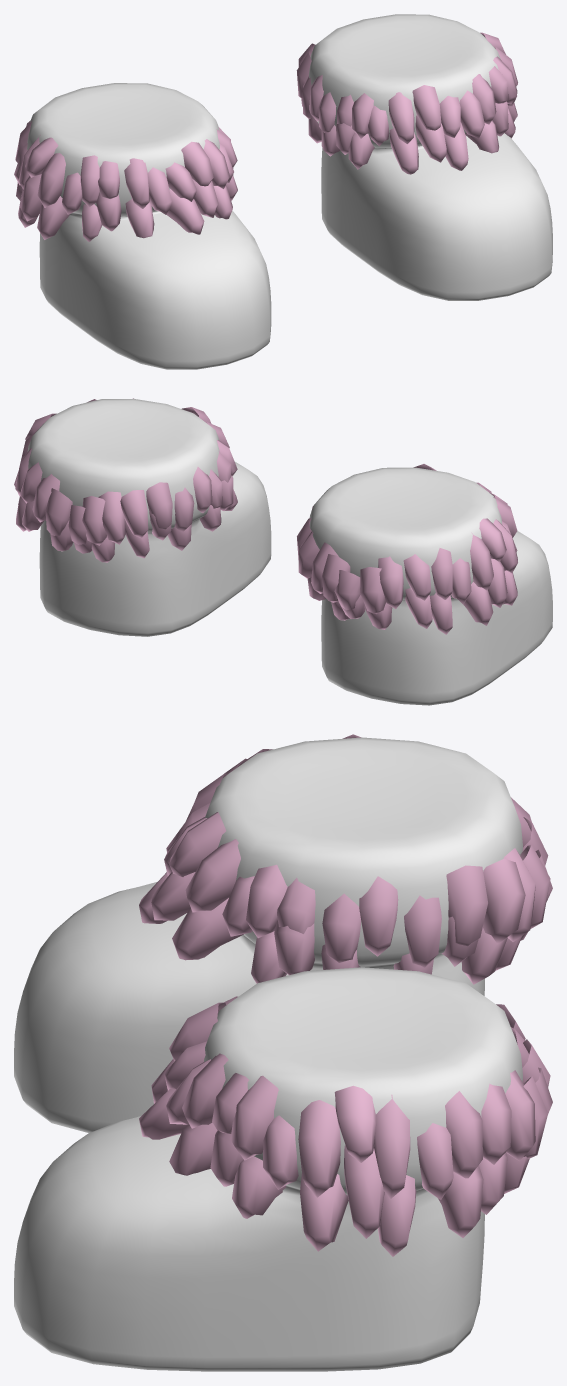
The picture shows the model from 3 angles, top to bottom: view 1: azimuth 30°, elevation 25°; view 2: azimuth 150°, elevation 25°; view 3: azimuth 270°, elevation 25°; orthographic projection. The views are drawn at different scales.
Parts seen in each view (by area): view 1: fluffly_boots; view 2: fluffly_boots; view 3: fluffly_boots.
Boxes of the visible parts, box(x1,y1,x2,y2) form: fluffly_boots: box(14, 14, 552, 369); fluffly_boots: box(14, 398, 552, 705); fluffly_boots: box(14, 734, 552, 1371).
Size of the model in its own units: 0.8401 by 0.2924 by 0.4842.
